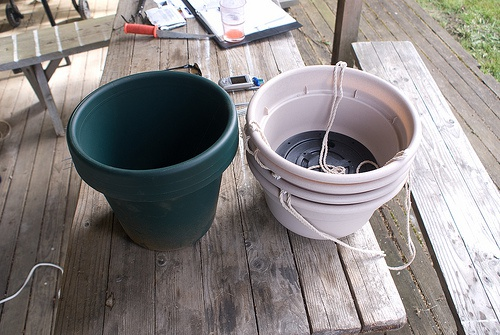flowerpot: (243, 63, 420, 247), (66, 75, 240, 254)
